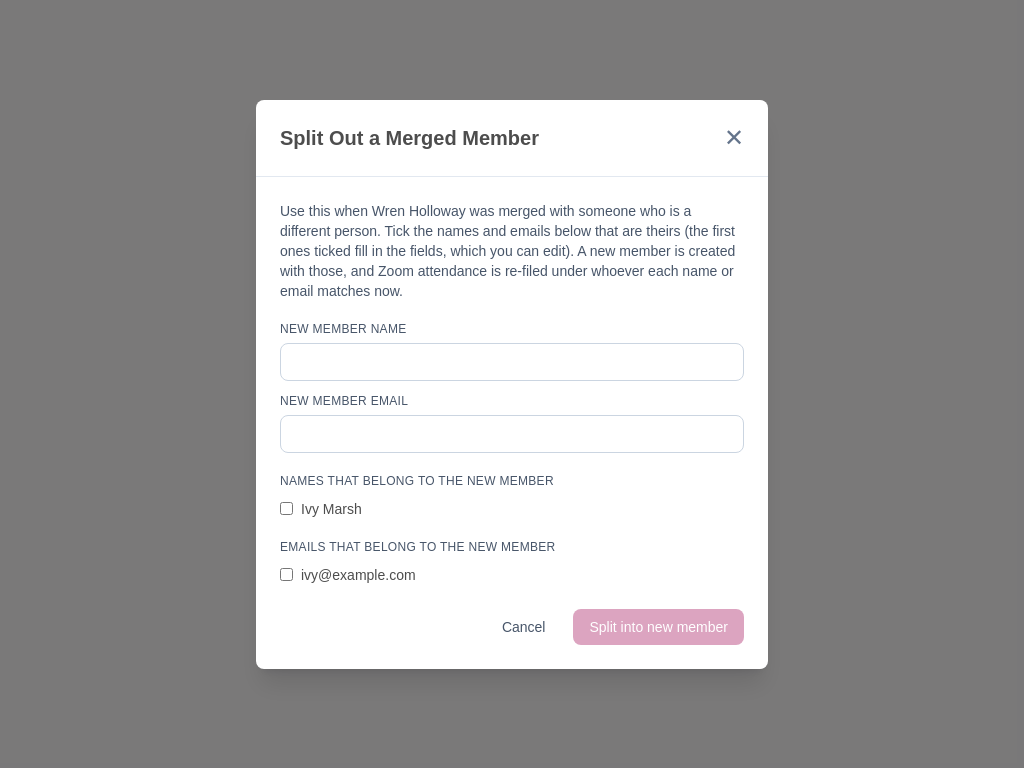
Test: SplitMemberModal submit › shows the server's error and stays open
This screenshot has width=1024, height=768.
What coordinates should you click on to do the following:
click the checkbox labelled "Ivy Marsh"
I would click on:
 (286, 508)
Its box is [280,502,293,515].
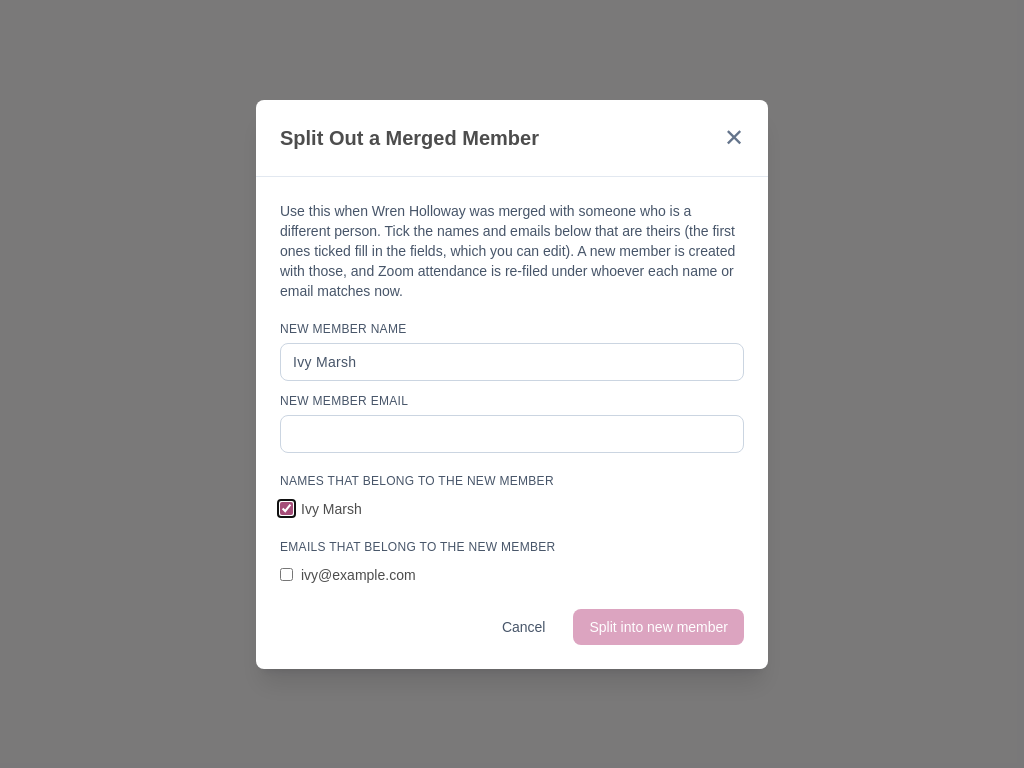
What coordinates should you click on to do the following:
click the checkbox labelled "ivy@example.com"
I would click on:
 (286, 574)
Its box is [280,568,293,581].
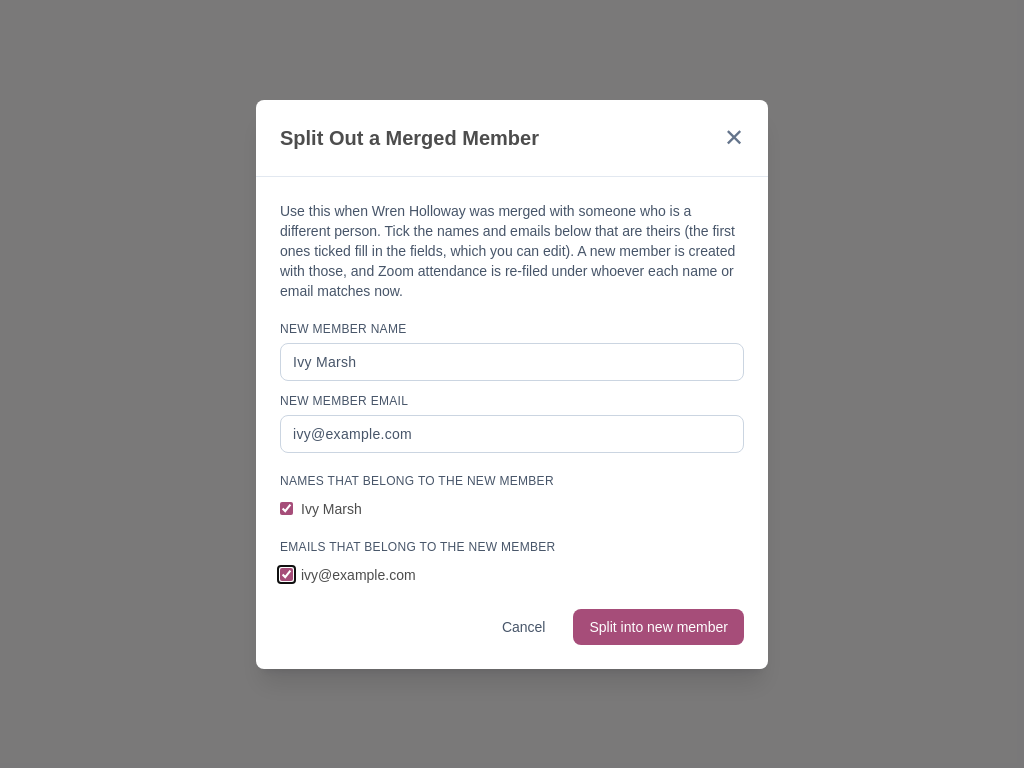
What coordinates should you click on to do the following:
click the button "Split into new member"
I would click on:
 (659, 626)
Its box is [574,608,744,644].
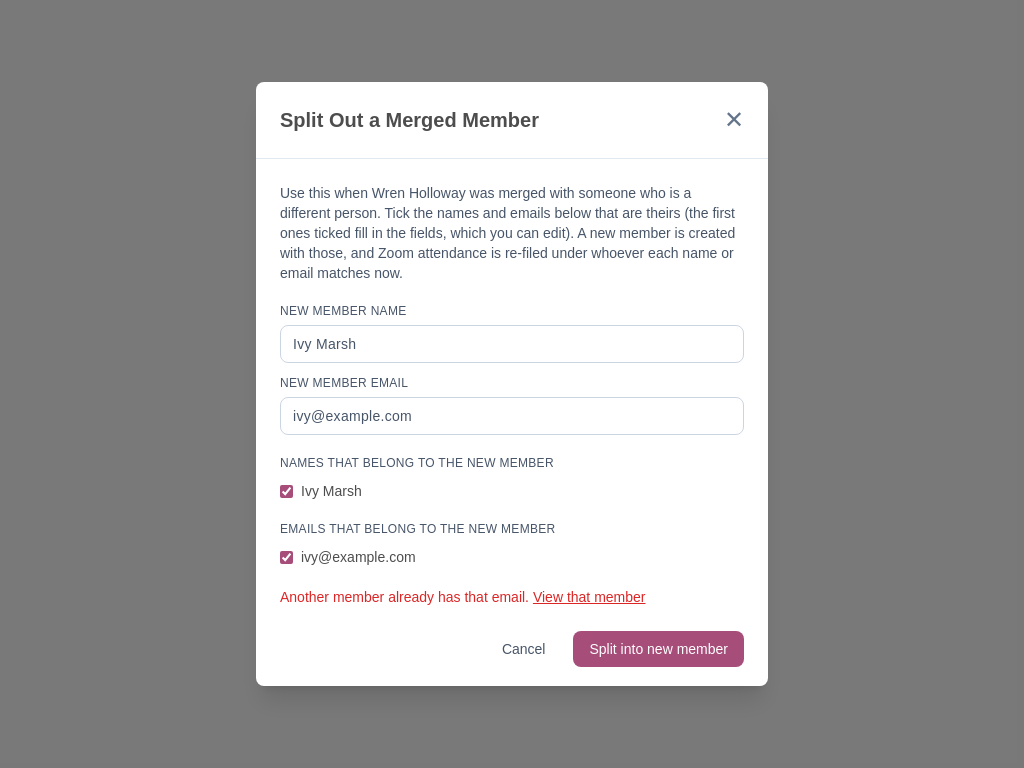
Check: the text "Another member already has that email." is shown, box [280,589,529,605]
